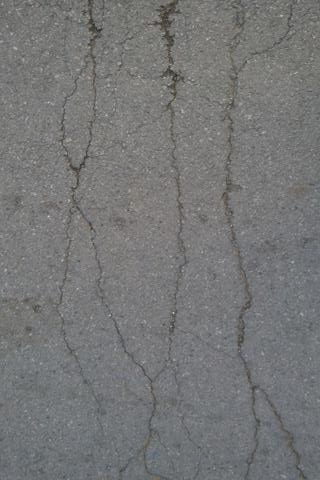A: (51, 1, 158, 480), (217, 3, 309, 480), (155, 3, 202, 378)
